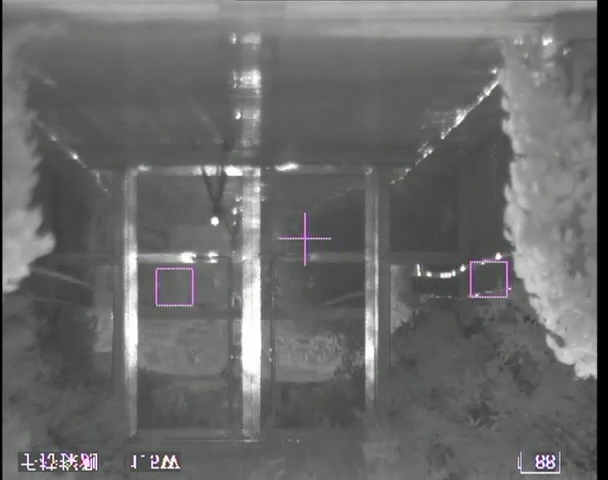my: (209, 214, 220, 228)
